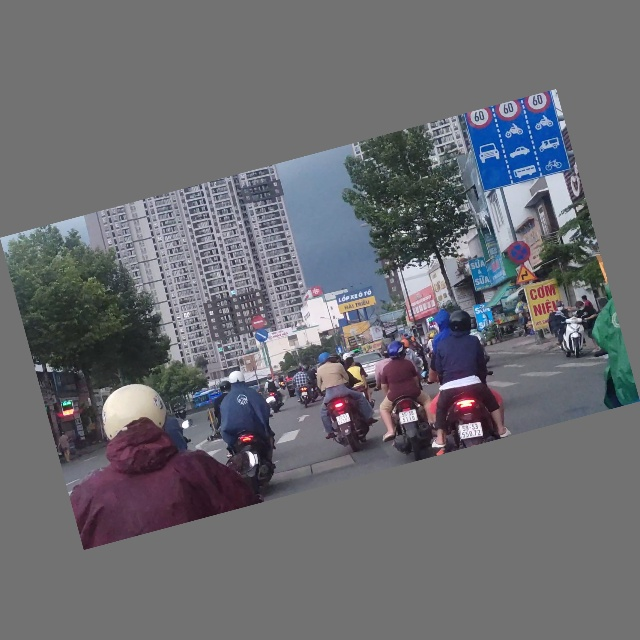I.407a: (335, 346, 344, 355)
I.434a: (396, 324, 405, 335)
P.102: (251, 315, 267, 331)
P.127*60: (523, 92, 553, 117), (465, 107, 495, 132), (495, 100, 523, 123)
P.130: (505, 239, 533, 266)
R.302a: (254, 328, 270, 344)
R.415a: (468, 110, 571, 193)
W.202b: (511, 262, 538, 287)
